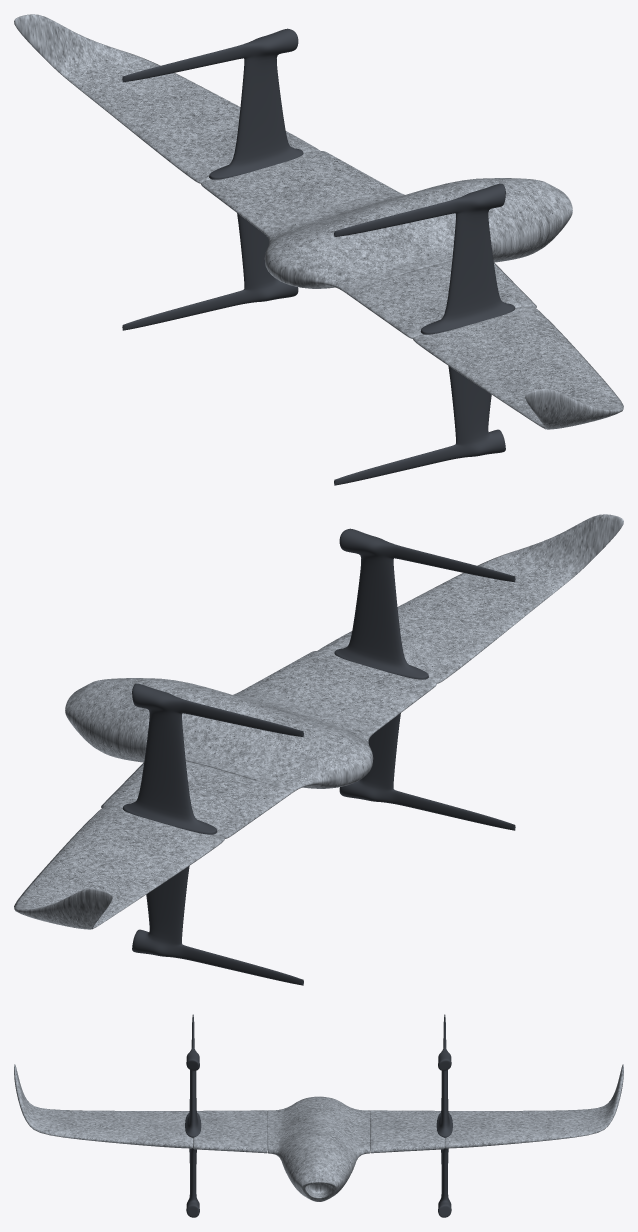
Rendered from base_link__fuselage_visual.glb.
3 renders of one model, top to bottom at view 1: azimuth 30°, elevation 25°; view 2: azimuth 150°, elevation 25°; view 3: azimuth 270°, elevation 25°, orthographic. The views are drawn at different scales.
Parts seen in each view (by area): view 1: ~CS_LT-WING.001, ~CS_FUSELAGE.001, ~CS_RT-WING.001, ~CS_N-3.001, ~CS_N-1.001, ~CS_N-4.001, ~CS_N-2.001; view 2: ~CS_RT-WING.001, ~CS_FUSELAGE.001, ~CS_LT-WING.001, ~CS_N-1.001, ~CS_N-3.001, ~CS_N-2.001, ~CS_N-4.001; view 3: ~CS_LT-WING.001, ~CS_RT-WING.001, ~CS_FUSELAGE.001, ~CS_N-3.001, ~CS_N-1.001, ~CS_N-2.001, ~CS_N-4.001.
Part boxes in pixels (x1,y1,x2,y2): ~CS_LT-WING.001: (14,14,399,230); ~CS_FUSELAGE.001: (260,178,572,293); ~CS_RT-WING.001: (346,261,623,429); ~CS_N-3.001: (122,28,303,179); ~CS_N-1.001: (334,183,515,334); ~CS_N-4.001: (334,366,505,485); ~CS_N-2.001: (122,213,298,330); ~CS_RT-WING.001: (238,514,623,730); ~CS_FUSELAGE.001: (65,678,377,793); ~CS_LT-WING.001: (14,761,291,929); ~CS_N-1.001: (334,528,515,679); ~CS_N-3.001: (122,683,303,834); ~CS_N-2.001: (132,866,303,985); ~CS_N-4.001: (339,713,515,830); ~CS_LT-WING.001: (370,1064,623,1153); ~CS_RT-WING.001: (14,1064,267,1153); ~CS_FUSELAGE.001: (267,1096,370,1201); ~CS_N-3.001: (436,1014,452,1137); ~CS_N-1.001: (185,1014,201,1137); ~CS_N-2.001: (438,1148,451,1217); ~CS_N-4.001: (186,1148,199,1217).
Bounding box in the file's own units: 0.4563 × 0.3477 × 1.21.
Materials: 2 (1 with a texture image).
